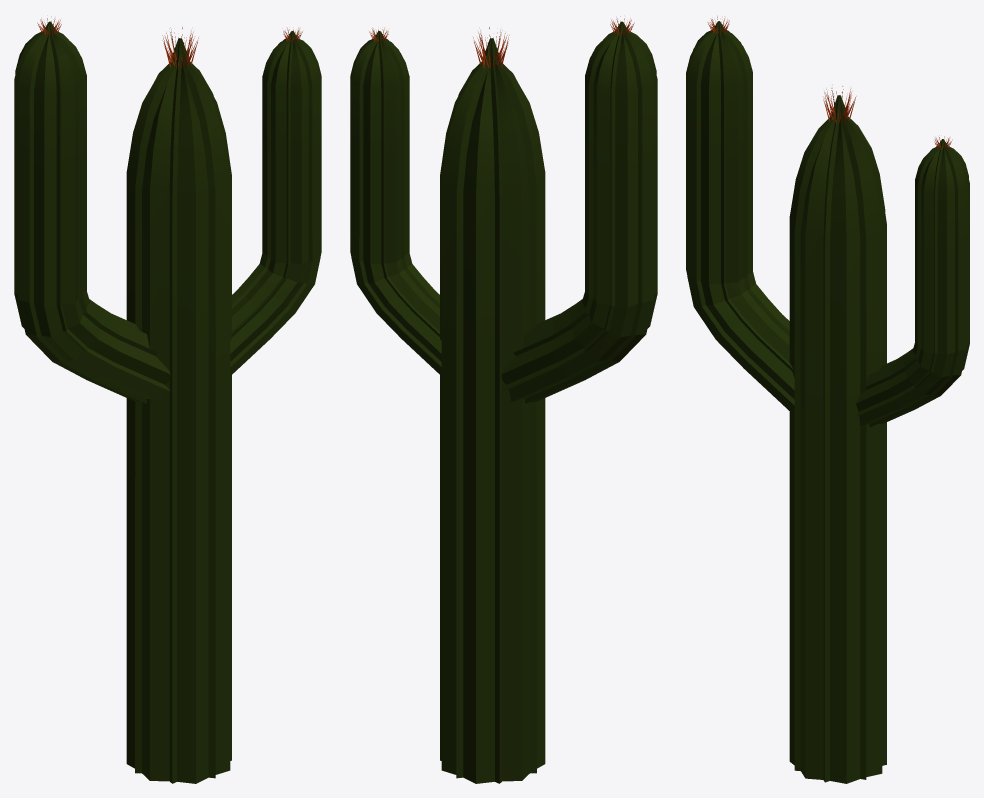
The model's file is Cactus01.FBX.
The picture shows the model from 3 angles, left to right: view 1: azimuth 30°, elevation 25°; view 2: azimuth 150°, elevation 25°; view 3: azimuth 330°, elevation 25°; orthographic projection. The views are drawn at different scales.
Parts seen in each view (by area): view 1: Cactus01; view 2: Cactus01; view 3: Cactus01.
Boxes of the visible parts, x1,y1,x2,y2 form: Cactus01: [14, 16, 321, 783]; Cactus01: [350, 16, 657, 783]; Cactus01: [686, 16, 969, 783].
Bounding box in the file's own units: 44.51 × 110 × 13.43.
